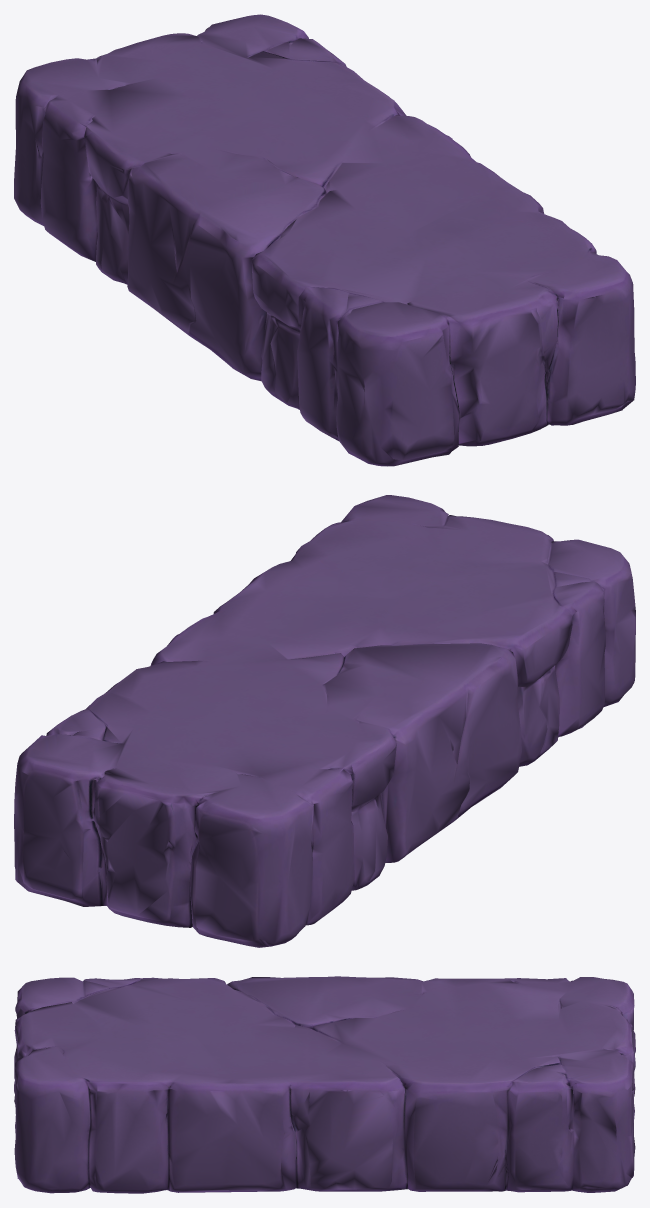
File: bloque_de_espuma_morada.glb
3 renders of one model, top to bottom at view 1: azimuth 30°, elevation 25°; view 2: azimuth 150°, elevation 25°; view 3: azimuth 270°, elevation 25°, orthographic. The views are drawn at different scales.
Visible parts, largest first — view 1: bloque_de_espuma_morada; view 2: bloque_de_espuma_morada; view 3: bloque_de_espuma_morada.
Boxes of the visible parts, x1,y1,x2,y2 form: bloque_de_espuma_morada: (14, 14, 635, 466); bloque_de_espuma_morada: (14, 495, 635, 947); bloque_de_espuma_morada: (14, 976, 635, 1193).
Size of what is drawn, in the model's own units: 2.21 by 0.9988 by 5.04.
1 material, 1 textured.
